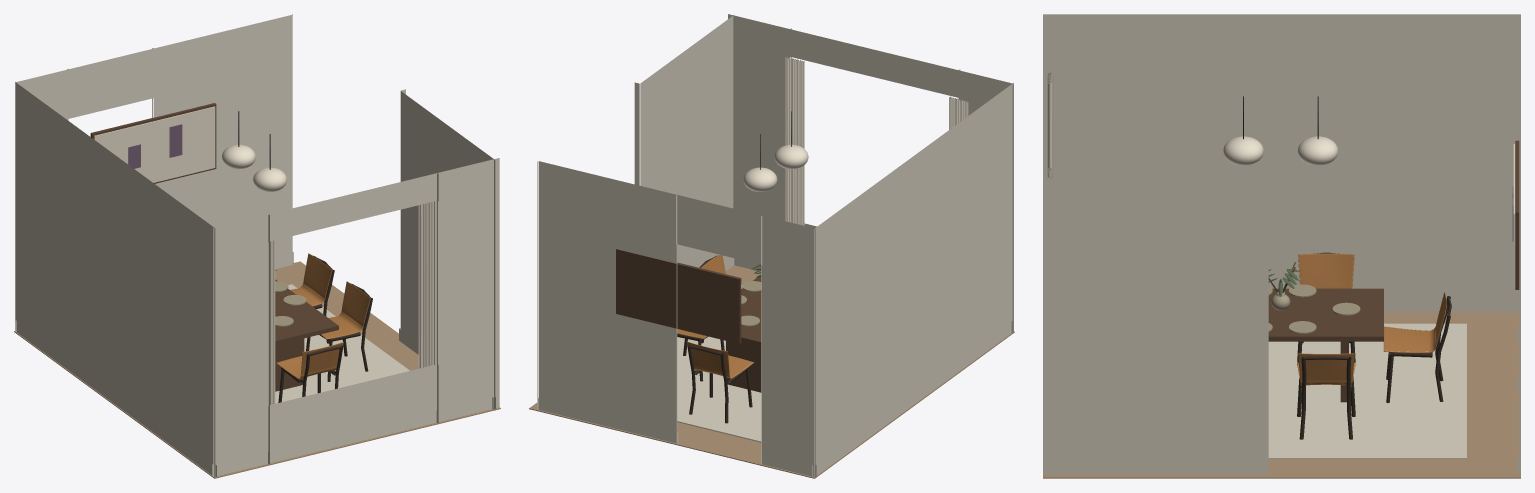
File: dining-3.glb
3 views of the same model, side by side, from view 1: azimuth 30°, elevation 25°; view 2: azimuth 150°, elevation 25°; view 3: azimuth 270°, elevation 25° (orthographic). The views are drawn at different scales.
Parts seen in each view (by area): view 1: DESIGN | dining removable wall finish, DESIGN | Textile artwork.001, DESIGN | dining floor finish, DESIGN | Dining ground, DESIGN | Dining linen edge.001, DESIGN | Required Isadora dining chair 3, DESIGN | Dining table top, DESIGN | Required Isadora dining chair 5, DESIGN | Required Isadora dining chair 4, DESIGN | Dining linen edge, DESIGN | Dining table trestle, DESIGN | Quiet artwork frame.001 (+2 smaller); view 2: DESIGN | dining removable wall finish, DESIGN | Quiet artwork frame.001, DESIGN | Dining ground, DESIGN | dining floor finish, DESIGN | Dining linen edge.001, DESIGN | Required Isadora dining chair 6, DESIGN | Dining table trestle.001, DESIGN | Dining table top, DESIGN | Dining light 1 shade, DESIGN | Dining light 2 shade; view 3: DESIGN | dining removable wall finish, DESIGN | Dining ground, DESIGN | dining floor finish, DESIGN | Dining table top, DESIGN | Required Isadora dining chair 6, DESIGN | Required Isadora dining chair 4, DESIGN | Required Isadora dining chair 2, DESIGN | Dining light 2 shade, DESIGN | Dining light 1 shade, DESIGN | Quiet artwork frame.001, DESIGN | Dining linen edge.
Part boxes in pixels (x1,y1,x2,y2): DESIGN | dining removable wall finish: (15,14,499,477); DESIGN | Textile artwork.001: (94,106,215,182); DESIGN | dining floor finish: (14,261,500,478); DESIGN | Dining ground: (275,284,409,403); DESIGN | Dining linen edge.001: (418,201,436,368); DESIGN | Required Isadora dining chair 3: (306,281,372,381); DESIGN | Dining table top: (275,279,338,345); DESIGN | Required Isadora dining chair 5: (276,342,343,402); DESIGN | Required Isadora dining chair 4: (290,253,334,343); DESIGN | Dining linen edge: (268,240,275,405); DESIGN | Dining table trestle: (275,338,304,391); DESIGN | Quiet artwork frame.001: (90,103,216,183); DESIGN | dining removable wall finish: (537,14,1013,477); DESIGN | Quiet artwork frame.001: (616,249,741,343); DESIGN | Dining ground: (677,284,761,442); DESIGN | dining floor finish: (529,265,1014,478); DESIGN | Dining linen edge.001: (785,57,804,225); DESIGN | Required Isadora dining chair 6: (687,341,754,423); DESIGN | Dining table trestle.001: (726,341,761,392); DESIGN | Dining table top: (741,277,761,346); DESIGN | Dining light 1 shade: (774,144,808,169); DESIGN | Dining light 2 shade: (743,167,777,191); DESIGN | dining removable wall finish: (1043,14,1520,474); DESIGN | Dining ground: (1268,323,1466,459); DESIGN | dining floor finish: (1043,312,1520,478); DESIGN | Dining table top: (1268,288,1383,341); DESIGN | Required Isadora dining chair 6: (1383,292,1451,402); DESIGN | Required Isadora dining chair 4: (1297,353,1355,439); DESIGN | Required Isadora dining chair 2: (1297,252,1355,365); DESIGN | Dining light 2 shade: (1297,136,1338,165); DESIGN | Dining light 1 shade: (1223,136,1263,165); DESIGN | Quiet artwork frame.001: (1515,140,1519,289); DESIGN | Dining linen edge: (1047,72,1053,170).
Bounding box in the file's own units: 3.28 × 2.74 × 3.98.
